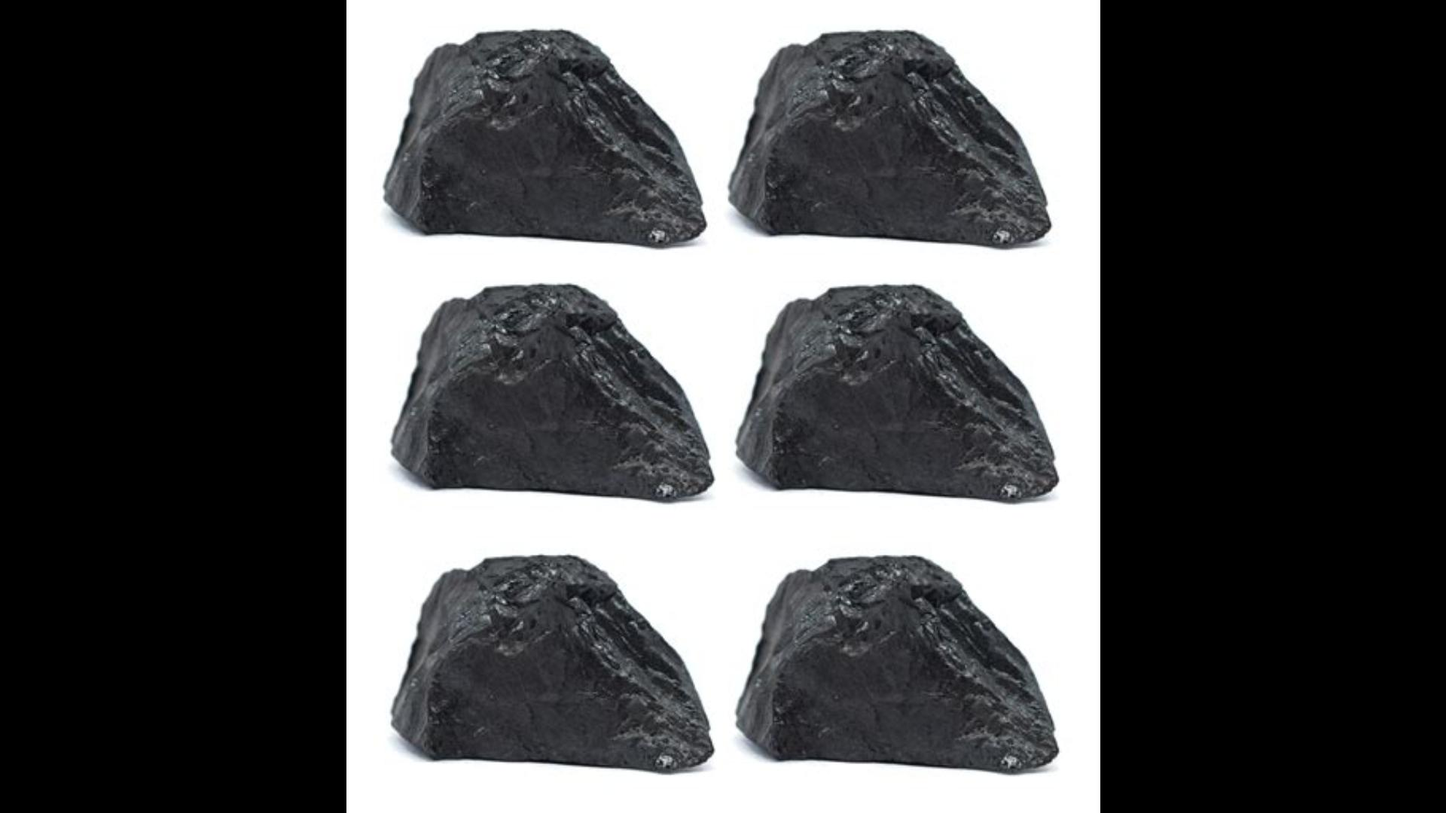rock: (349, 0, 1099, 811), (737, 555, 1054, 772), (385, 30, 704, 245), (393, 285, 712, 500), (393, 555, 712, 770), (737, 286, 1056, 500), (731, 32, 1049, 245)
